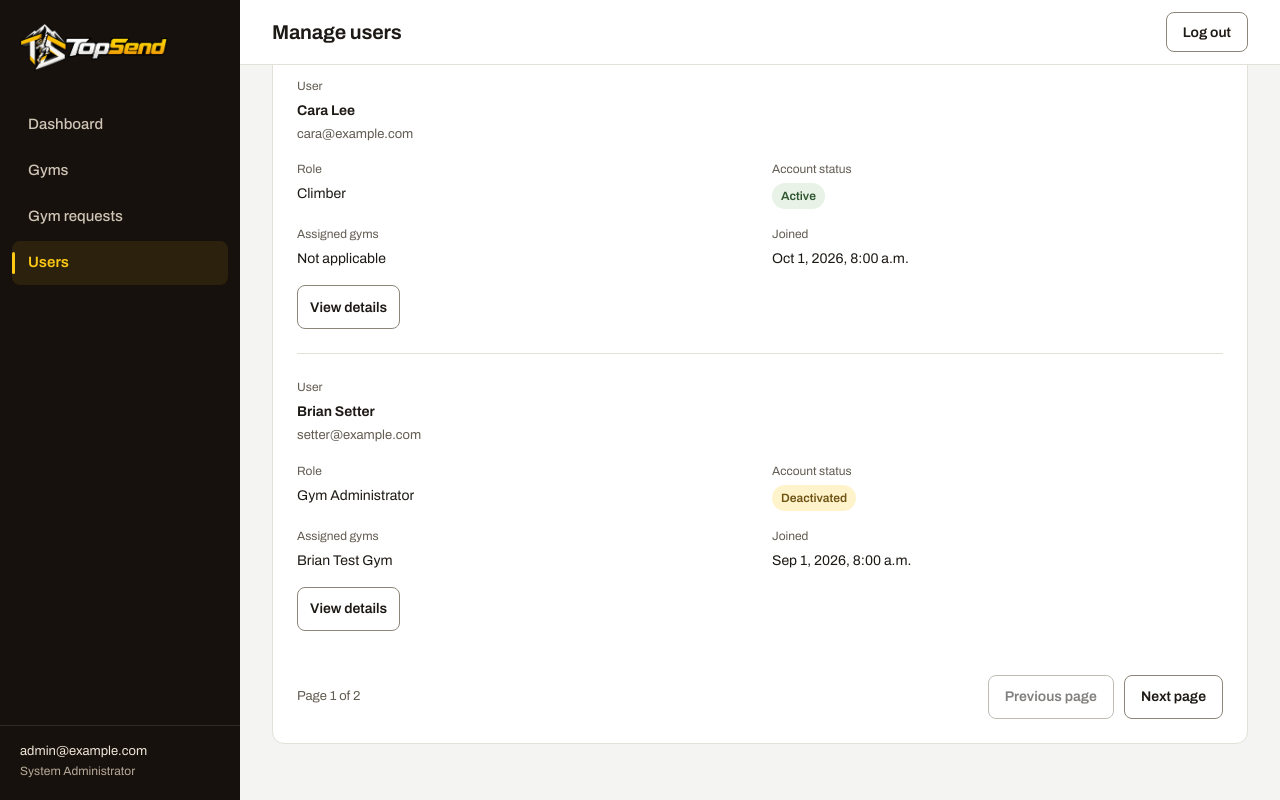
Test: US-008 / #146 user list and #147 supported search controls › pages through actual server totals while retaining the search
(page scrolled)
Check: the table is shown, box [297,52,1223,655]
Click the button "Next page" at (1173, 697), box [1124,675,1223,719]
(page scrolled)
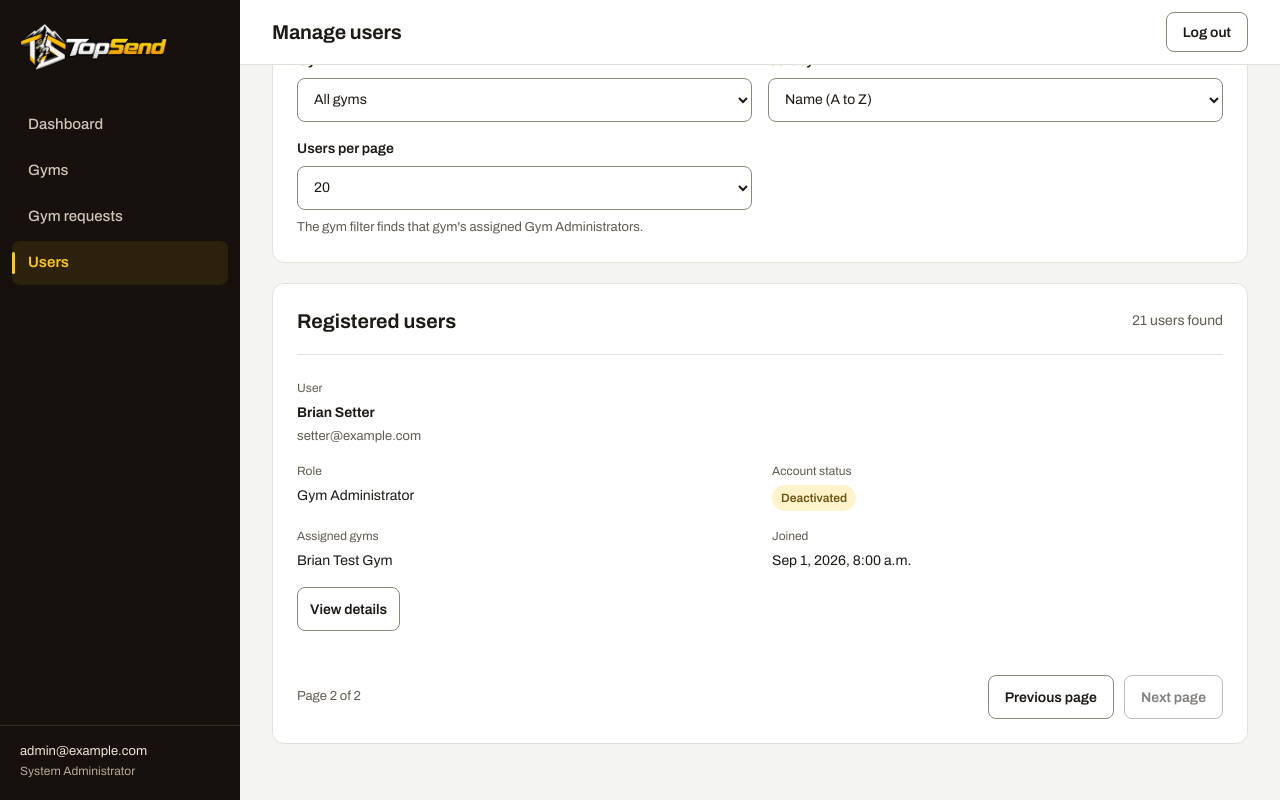
Check: the text "Page 2 of 2" is shown, box [297,687,361,707]
